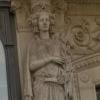Statue: (28, 6, 75, 100)
